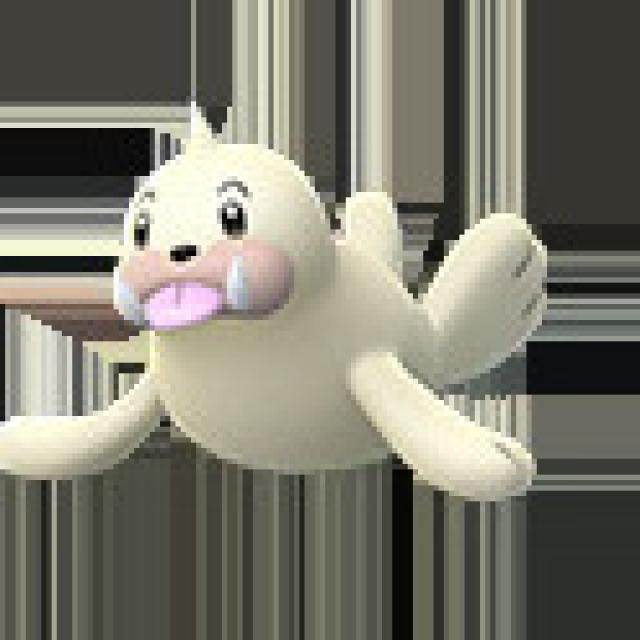Seel: (7, 105, 556, 485)
